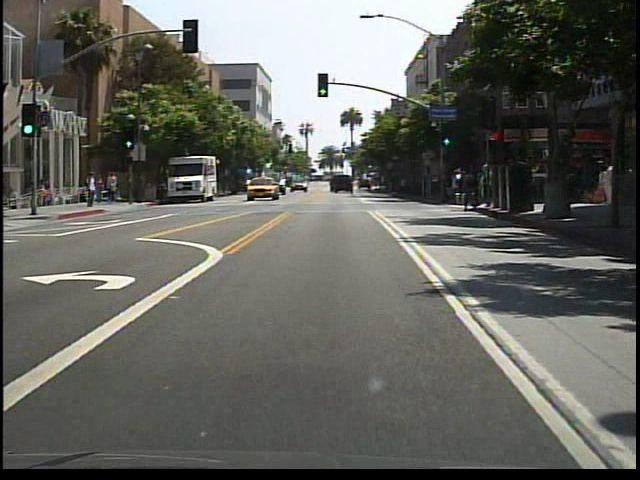person: (105, 170, 121, 206), (37, 178, 54, 210), (86, 172, 100, 210), (96, 175, 108, 205)
